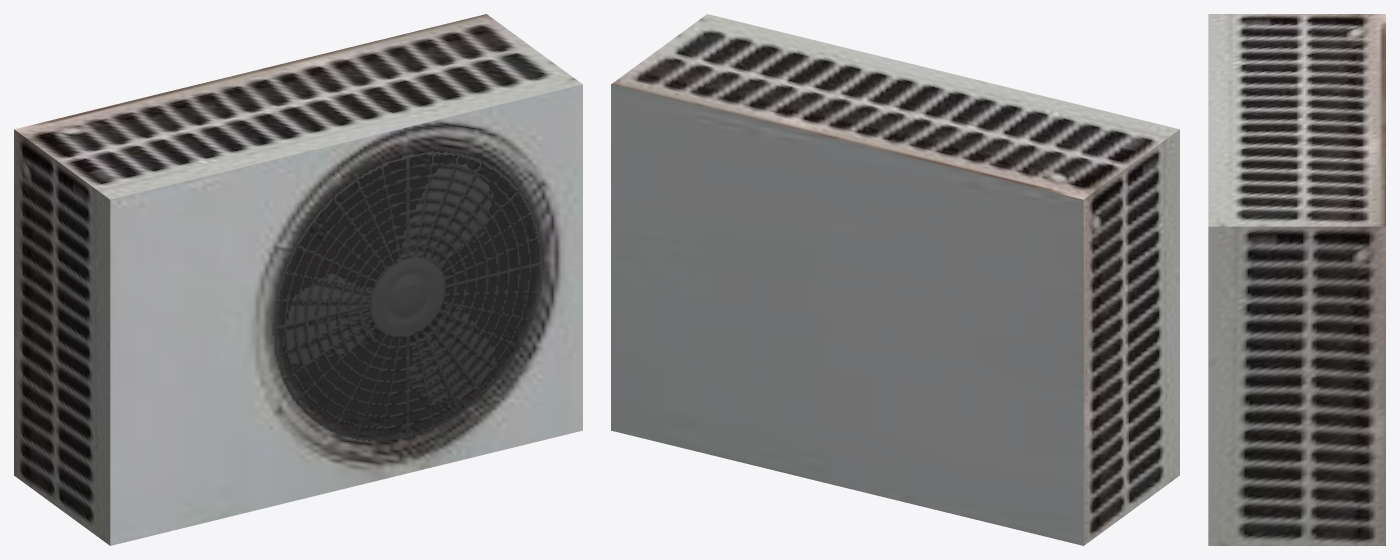
The model's file is [PSX] Outside AC Unit.fbx.
The picture shows the model from 3 angles, left to right: view 1: azimuth 30°, elevation 25°; view 2: azimuth 150°, elevation 25°; view 3: azimuth 270°, elevation 25°; orthographic projection. The views are drawn at different scales.
Parts seen in each view (by area): view 1: Outside AC Unit; view 2: Outside AC Unit; view 3: Outside AC Unit.
Part boxes in pixels (left/top/right/bottom): Outside AC Unit: left=14, top=14, right=582, bottom=545; Outside AC Unit: left=611, top=14, right=1179, bottom=545; Outside AC Unit: left=1208, top=14, right=1385, bottom=545.
Size of the model in its own units: 89.36 by 62.55 by 31.57.
2 materials, 2 textured.
